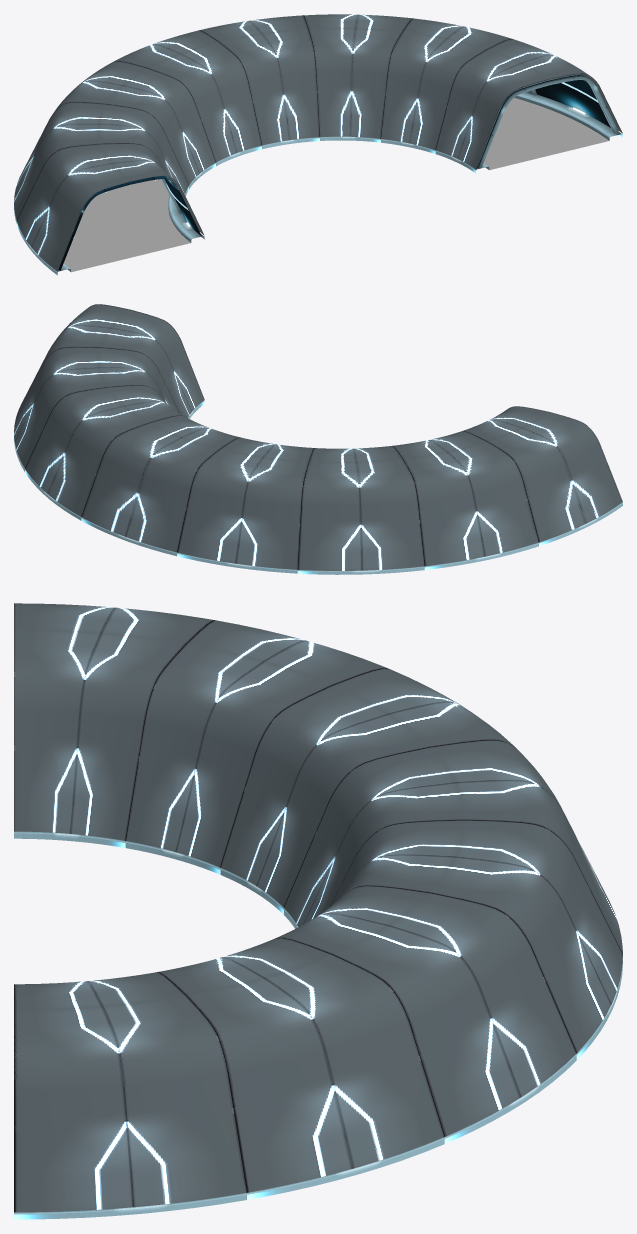
File: tunnel.fbx
The picture shows the model from 3 angles, top to bottom: view 1: azimuth 30°, elevation 25°; view 2: azimuth 150°, elevation 25°; view 3: azimuth 270°, elevation 25°; orthographic projection. The views are drawn at different scales.
Visible parts, largest first — view 1: polySurface141, polySurface140; view 2: polySurface141; view 3: polySurface141.
Part boxes in pixels (<box>): polySurface141: <box>14,14,622,275</box>; polySurface140: <box>63,98,608,272</box>; polySurface141: <box>14,304,622,574</box>; polySurface141: <box>14,603,622,1219</box>.
Bounding box in the file's own units: 61.96 × 7.97 × 30.98.
